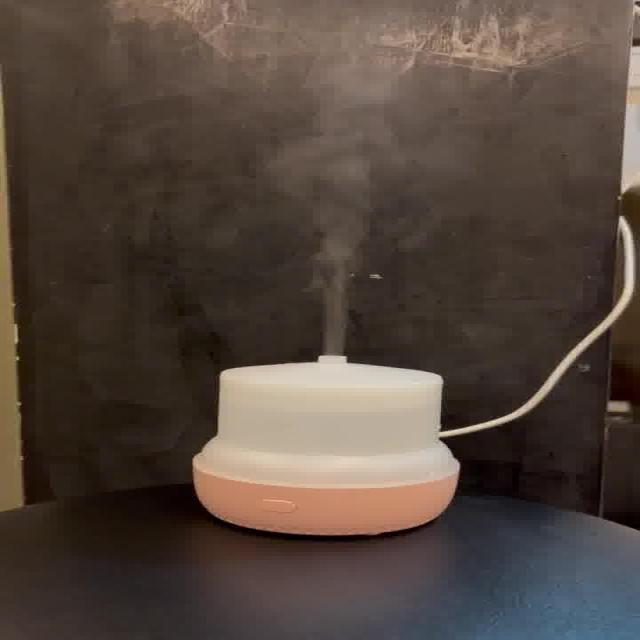fire: (263, 132, 444, 354)
